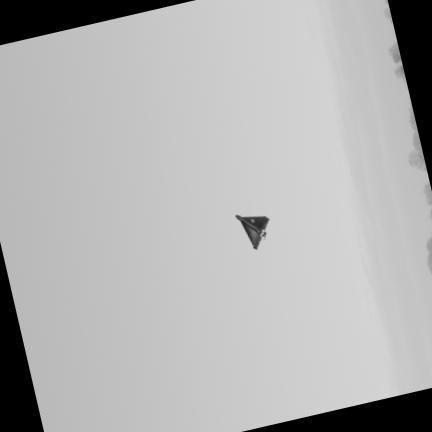Shahed: (236, 214, 268, 248)
